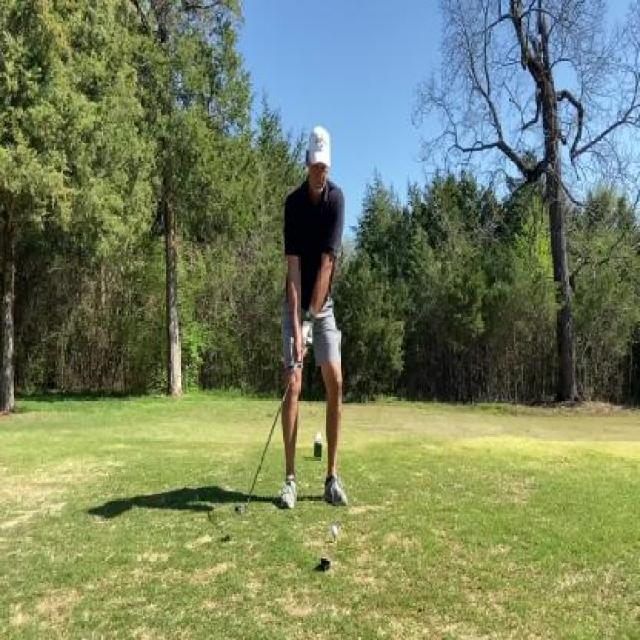club head: (234, 500, 249, 518)
